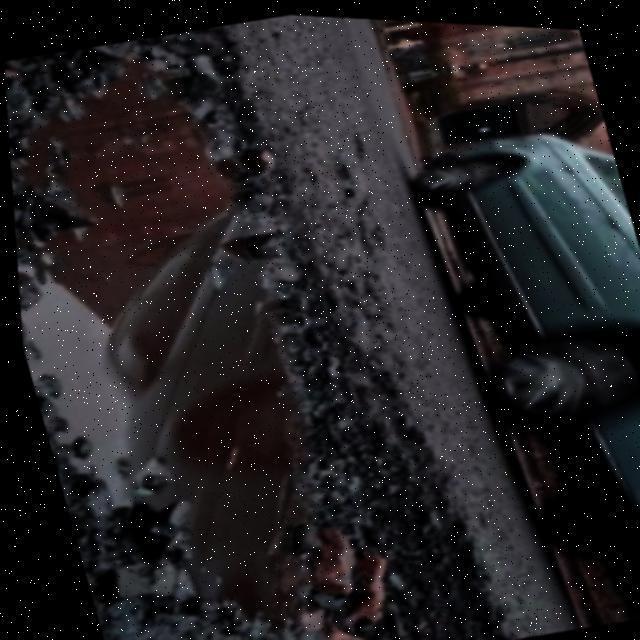pothole: (1, 2, 440, 640)
